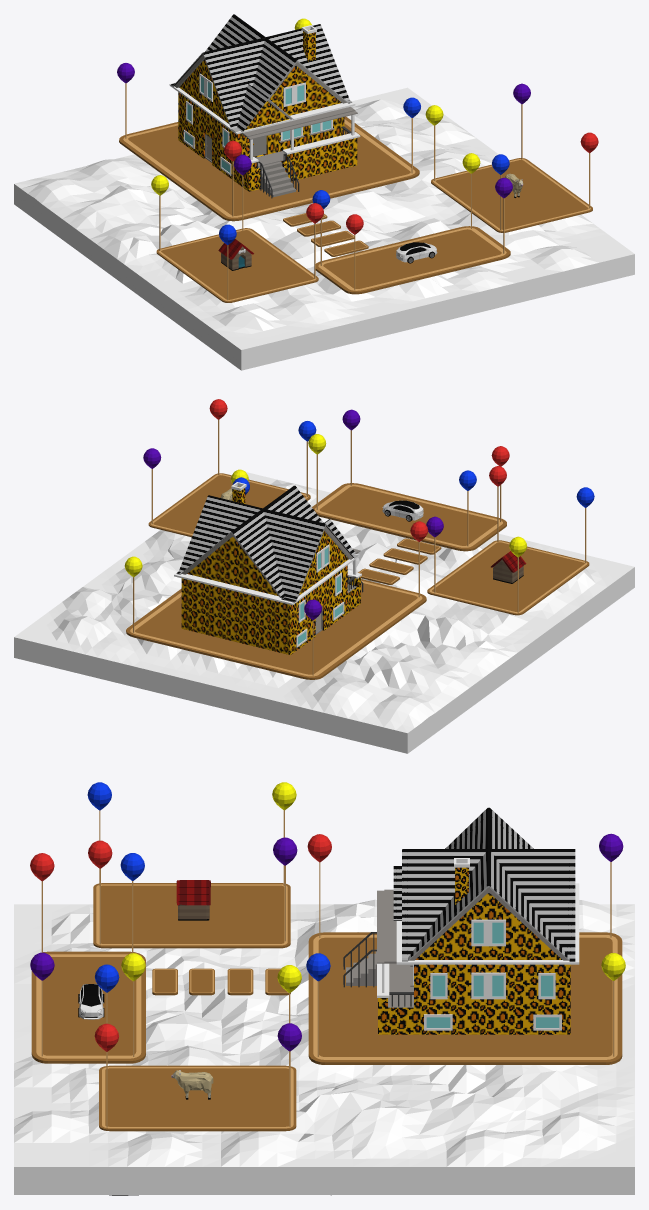
The picture shows the model from 3 angles, top to bottom: view 1: azimuth 30°, elevation 25°; view 2: azimuth 150°, elevation 25°; view 3: azimuth 270°, elevation 25°; orthographic projection. The views are drawn at different scales.
Parts seen in each view (by area): view 1: Cube.013, Cube.637, OBJRANDOM_DOGHOUSE, VEHICLES_TESLA; view 2: Cube.013, Cube.637, OBJRANDOM_DOGHOUSE, VEHICLES_TESLA; view 3: Cube.013, Cube.637, OBJRANDOM_DOGHOUSE, VEHICLES_TESLA, ANIMAL_OVEJA.
Part boxes in pixels (box(x1,y1,x2,y2)): Cube.013: box(14, 18, 634, 370); Cube.637: box(169, 14, 360, 198); OBJRANDOM_DOGHOUSE: box(218, 239, 253, 270); VEHICLES_TESLA: box(396, 242, 437, 263); Cube.013: box(14, 399, 634, 753); Cube.637: box(174, 482, 363, 655); OBJRANDOM_DOGHOUSE: box(491, 551, 526, 583); VEHICLES_TESLA: box(382, 500, 423, 521); Cube.013: box(14, 782, 634, 1194); Cube.637: box(343, 807, 579, 1034); OBJRANDOM_DOGHOUSE: box(176, 880, 210, 920); VEHICLES_TESLA: box(78, 984, 104, 1019); ANIMAL_OVEJA: box(171, 1070, 213, 1099).
Size of the model in its own units: 4000 by 1661 by 4000.
35 materials, 2 textured.
